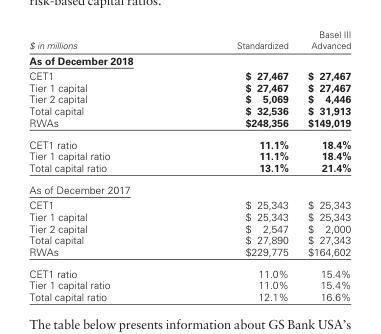table: (28, 28, 350, 302)
table column: (28, 28, 172, 302), (172, 28, 297, 302), (297, 28, 350, 302)
table column header: (28, 28, 350, 51)
table projected row header: (28, 178, 350, 196), (28, 51, 350, 67)
table row: (28, 28, 350, 51), (28, 178, 350, 196), (28, 116, 350, 133), (28, 161, 350, 178), (28, 245, 350, 262), (28, 262, 350, 279), (28, 51, 350, 67), (28, 133, 350, 149), (28, 67, 350, 81), (28, 196, 350, 210), (28, 92, 350, 104), (28, 104, 350, 116), (28, 149, 350, 161), (28, 210, 350, 222), (28, 233, 350, 245), (28, 290, 350, 302), (28, 81, 350, 92), (28, 222, 350, 233), (28, 279, 350, 290)
